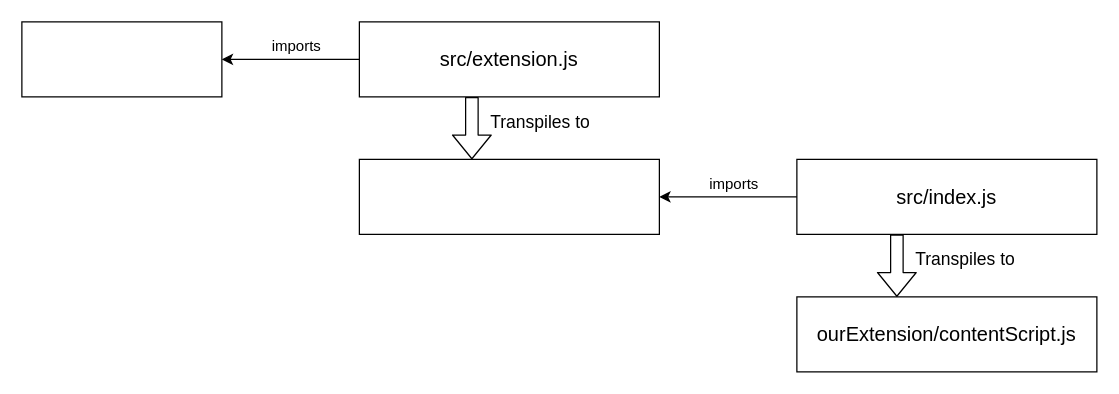
Some shapes in this 1119 by 394 pixel diagram are drawn without their labels. The centre of each missing label's shape, as x and y in pixels:
"src/ <. . .> .js" belongs at point (121, 59).
"src/.extension-bundle.<hash>.js" belongs at point (508, 196).
